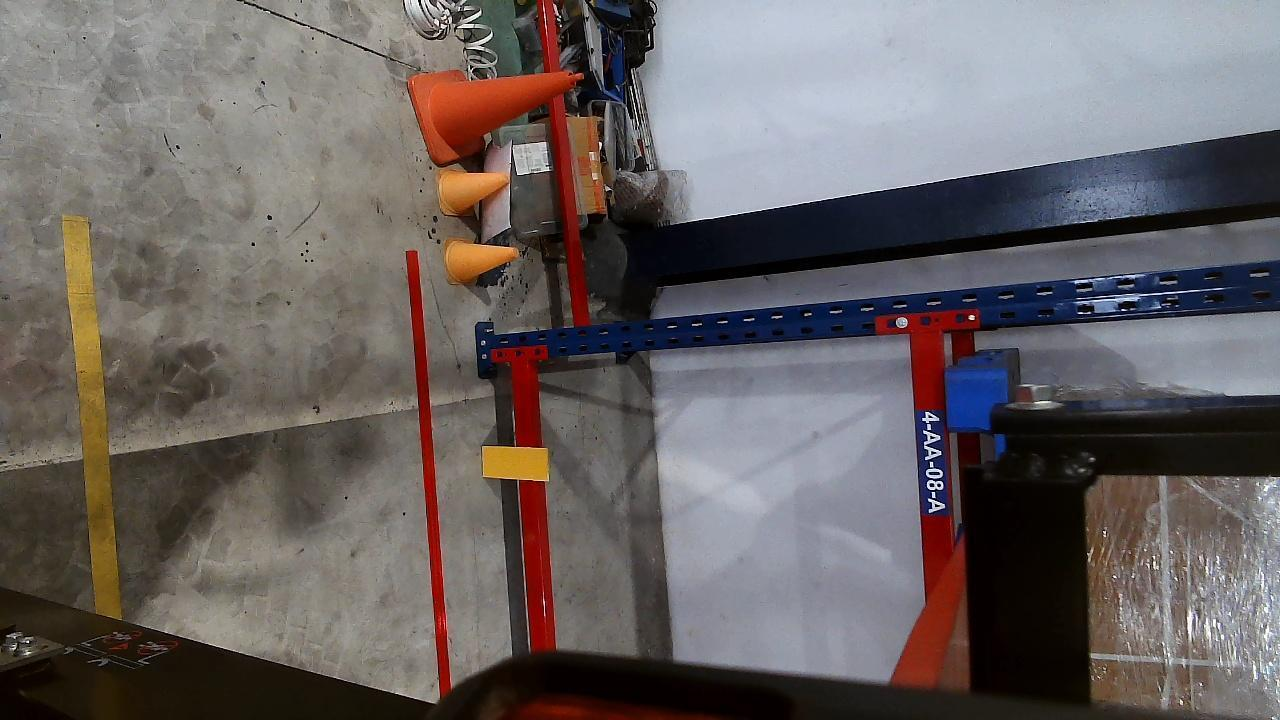red_line: (409, 250, 452, 692)
yellow_line: (58, 214, 119, 617)
